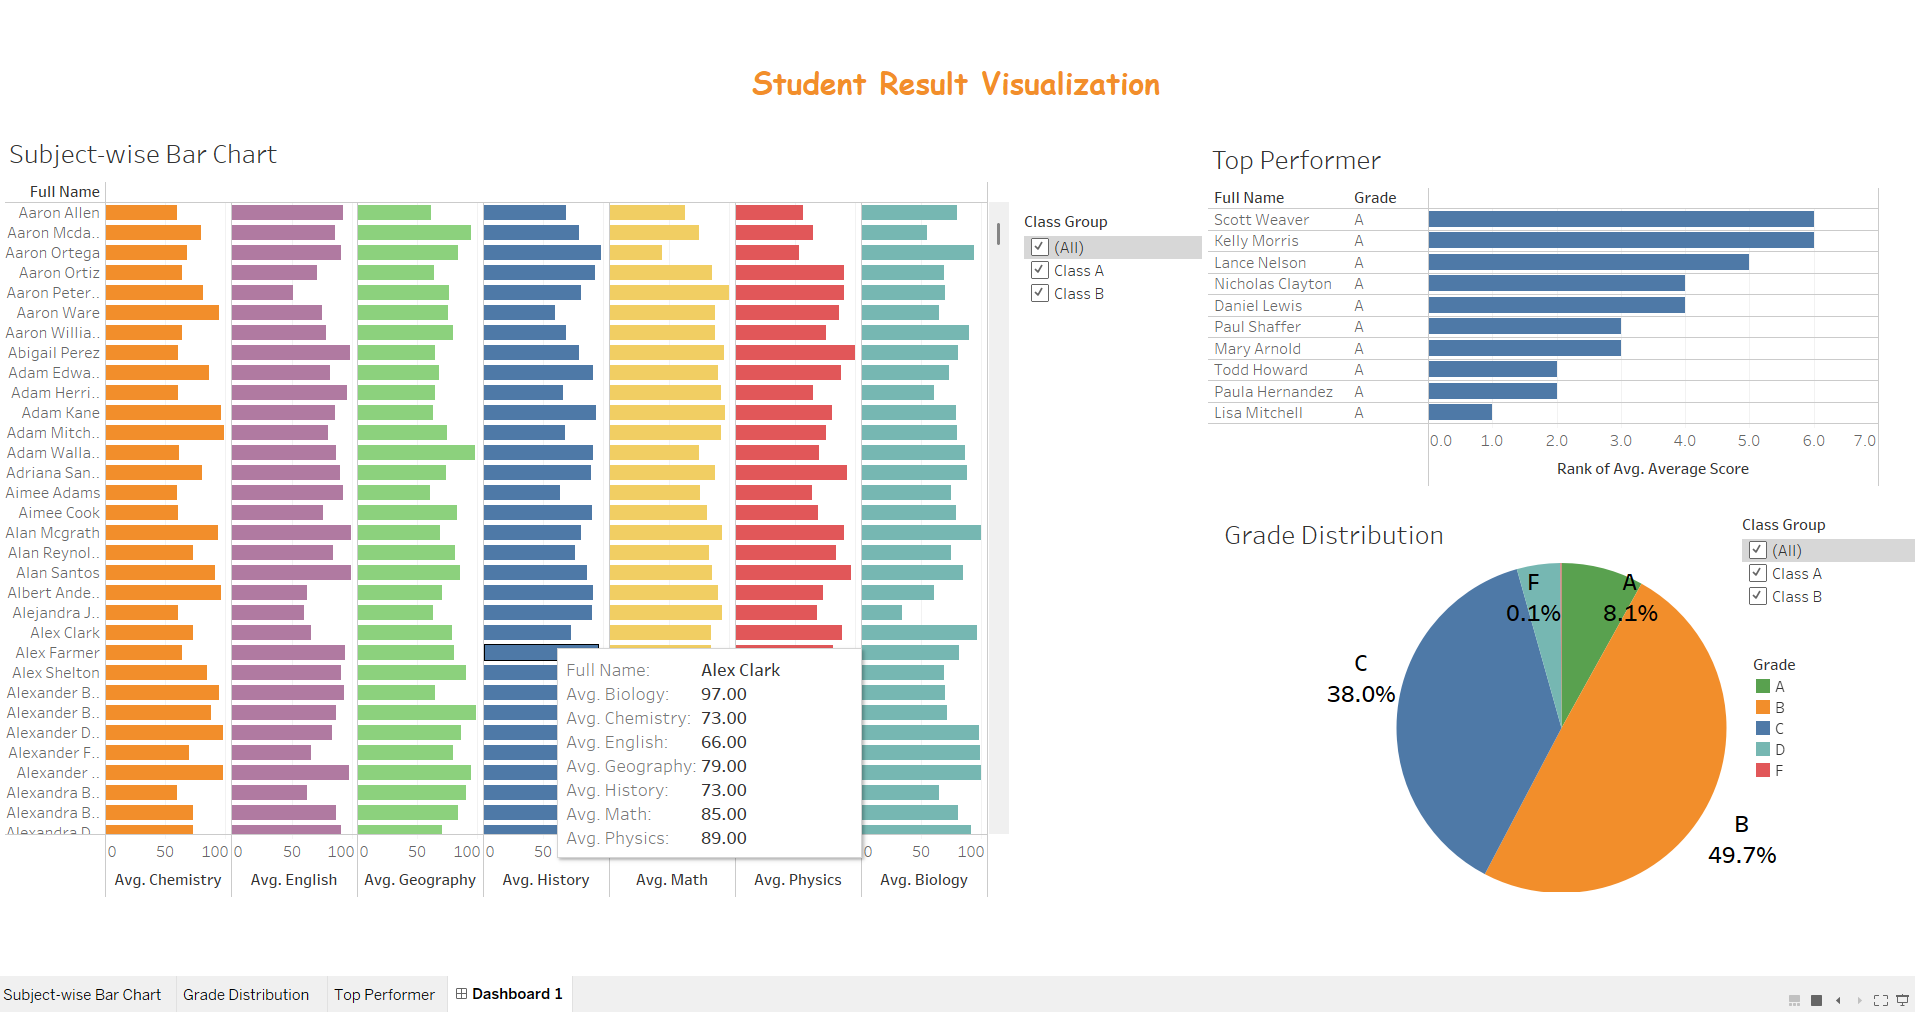

The page's visual inventory and layout, read from the dashboard file:
{"tool":"tableau","page":{"name":"Dashboard 1","canvas":[1000,1000],"units":"permille","ordinal":0},"visuals":[{"type":"title","box":[4.2,10.2,991.7,64]},{"type":"worksheet","title":"Subject-wise Bar Chart","mark":"Bar","rows":["Calculation_1452973863619358722"],"cols":["chemistry_score","english_score","geography_score","history_score","math_score","physics_score","biology_score"],"box":[4.7,96,524.5,891.2]},{"type":"worksheet","title":"Top Performer","mark":"Automatic","rows":["Calculation_1452973863619358722","Calculation_1452973863618539521"],"box":[631.2,103.7,349.5,405.9]},{"type":"filter","title":"Subject-wise Bar Chart","param":"[federated.1sc6ila015943s1ck5y9p0fra7m6].[none:Calculation_1452973863629656068:n","box":[533.3,157.5,92.7,124.2]},{"type":"worksheet","title":"Grade Distribution ","mark":"Pie","box":[637.5,539,355.7,441.7]},{"type":"filter","title":"Grade Distribution ","param":"[federated.1sc6ila015943s1ck5y9p0fra7m6].[none:Calculation_1452973863629656068:n","box":[909.4,540.3,92.7,124.2]},{"type":"legend","title":"Grade Distribution ","param":"[federated.1sc6ila015943s1ck5y9p0fra7m6].[none:Calculation_1452973863618539521:n","box":[915.1,702.9,81.2,162.6]}]}

Visuals, with their boxes on the dashboard's canvas, which has no fixed pixel size, in thousandths of its width and height (x1, y1, x2, y2). These are canvas units, not pixel positions in the 1915x1012 screenshot, which may show the page scaled, cropped or inside an application window:
title: detection(4, 10, 996, 74)
"Subject-wise Bar Chart" worksheet (Bar marks): detection(5, 96, 529, 987)
"Top Performer" worksheet: detection(631, 104, 981, 510)
"Subject-wise Bar Chart" filter: detection(533, 158, 626, 282)
"Grade Distribution " worksheet (Pie marks): detection(638, 539, 993, 981)
"Grade Distribution " filter: detection(909, 540, 1002, 664)
"Grade Distribution " legend: detection(915, 703, 996, 866)
